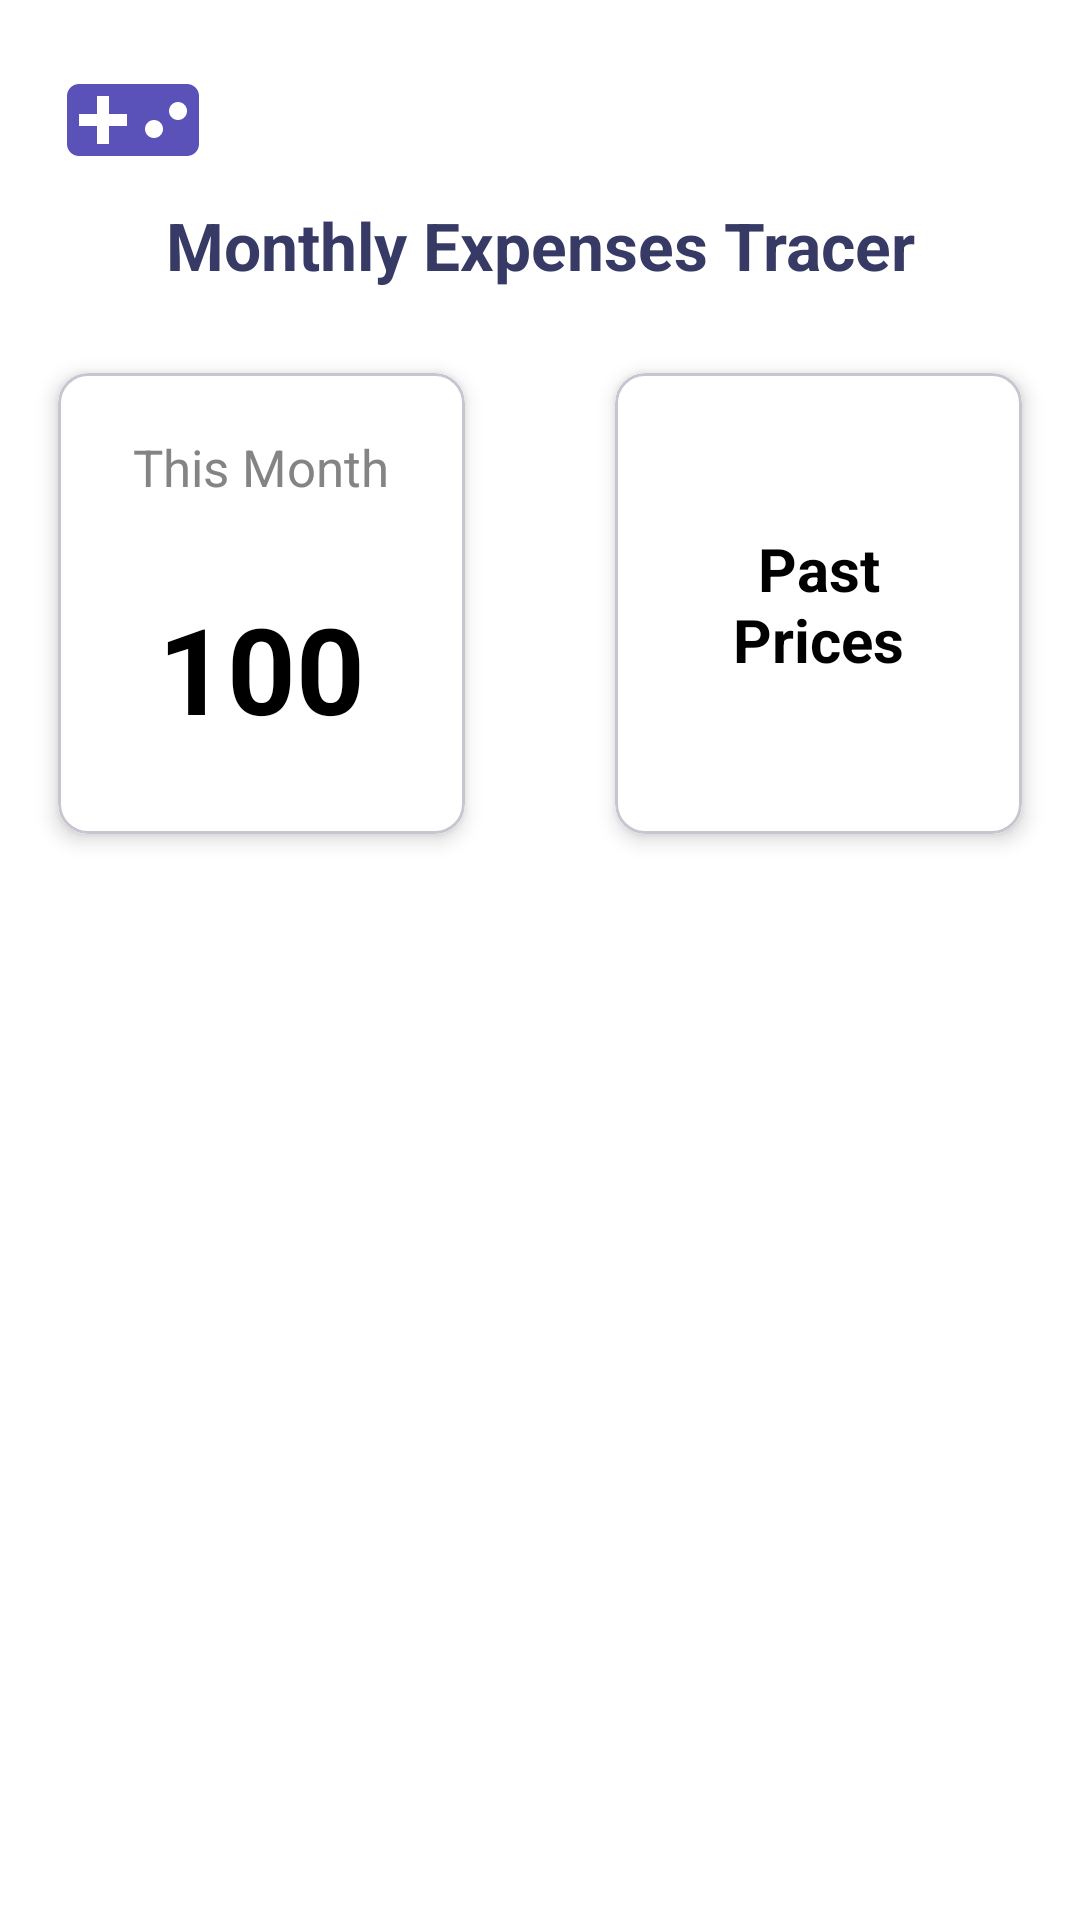

Locate icon controls on the screen. Image size 1080*1920, boxes as box(x1, y1, x2, y2).
games: box(67, 84, 199, 156)
